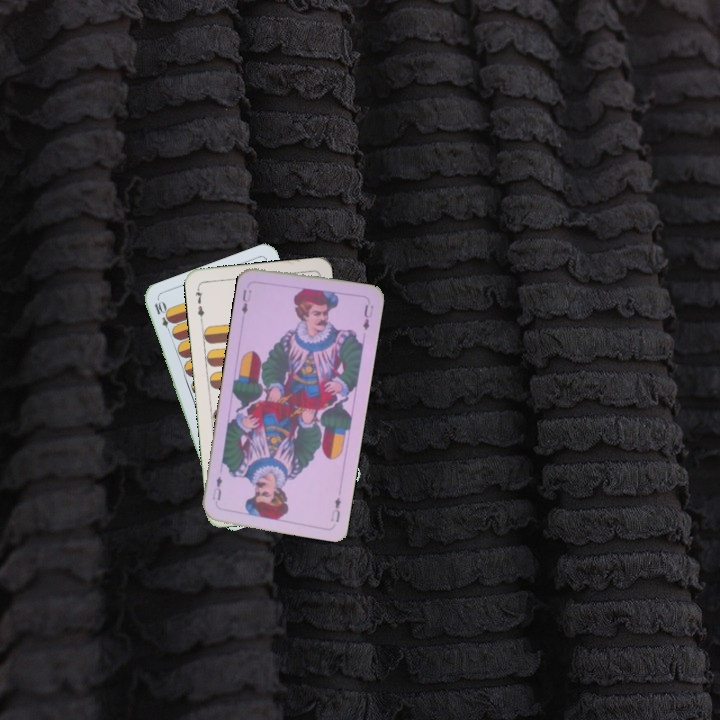E10: (150, 297, 175, 337)
E7: (191, 283, 207, 324)
EU: (327, 493, 344, 525), (238, 286, 254, 317)
